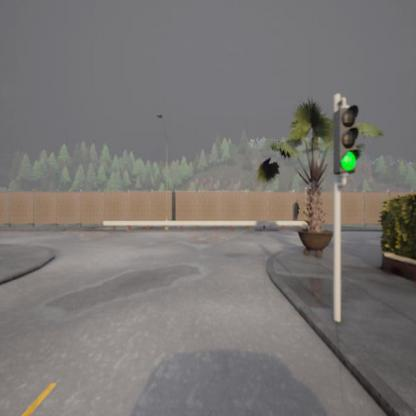traffic_light_green: (338, 105, 361, 174)
